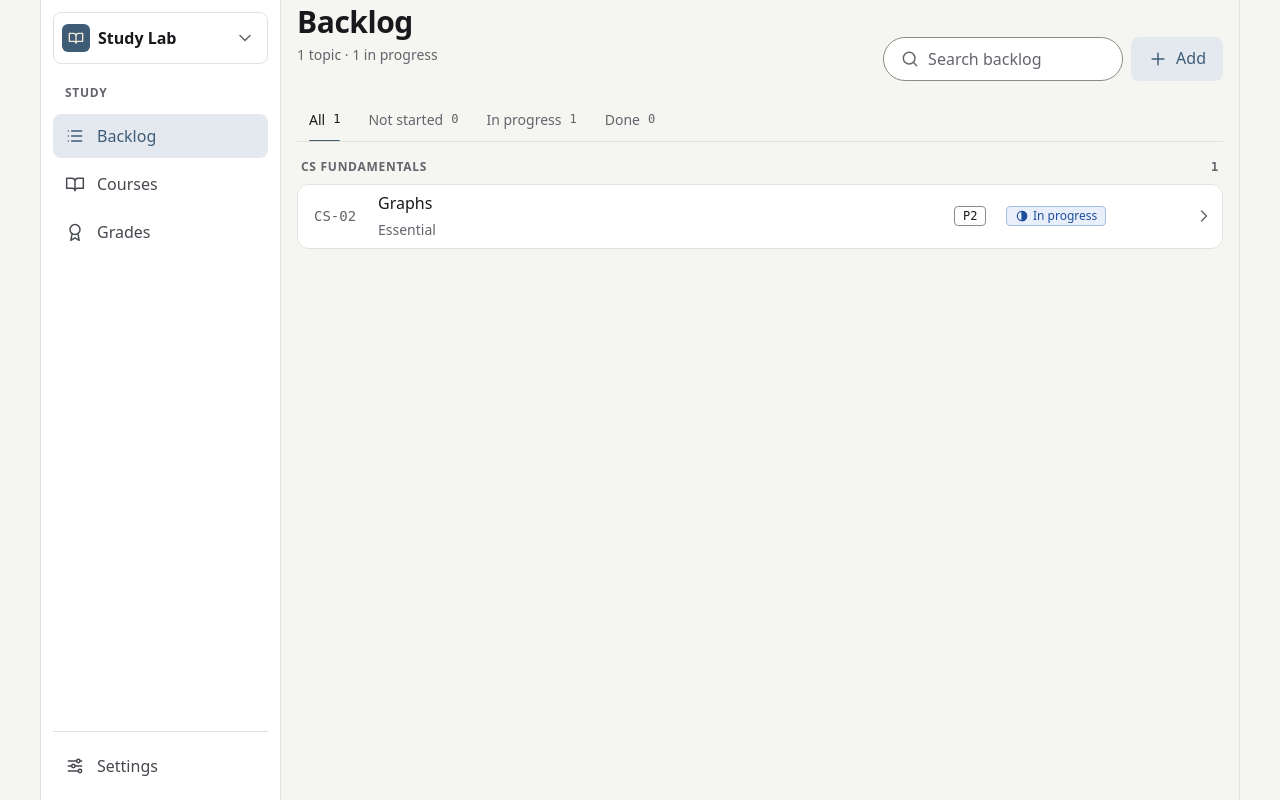
Scenario: Topic sheet › removes after a danger confirm, with an Idempotency-Key
This screenshot has width=1280, height=800.
Click the button "CS-02 Graphs Essential" at (335, 216), box [298,185,1222,248]
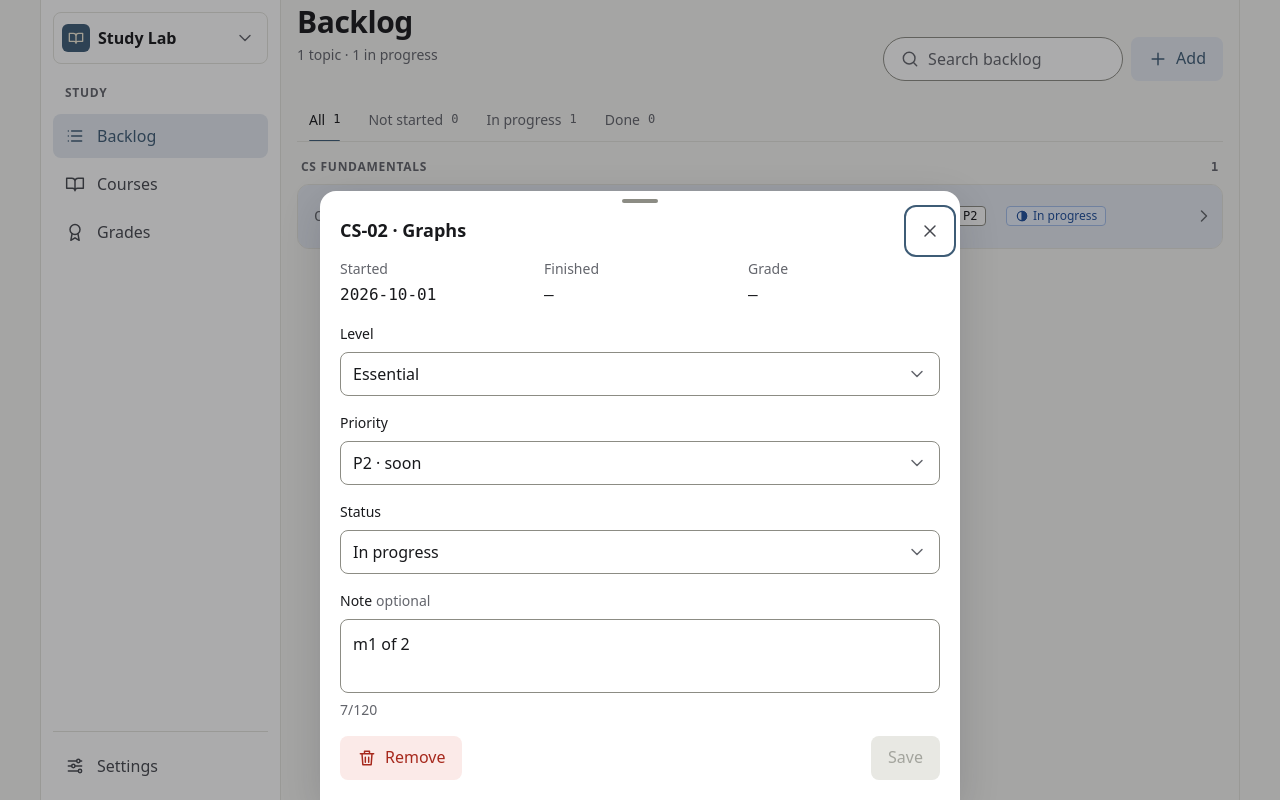
Click the button "Remove" at (401, 758), box [340,736,462,780]
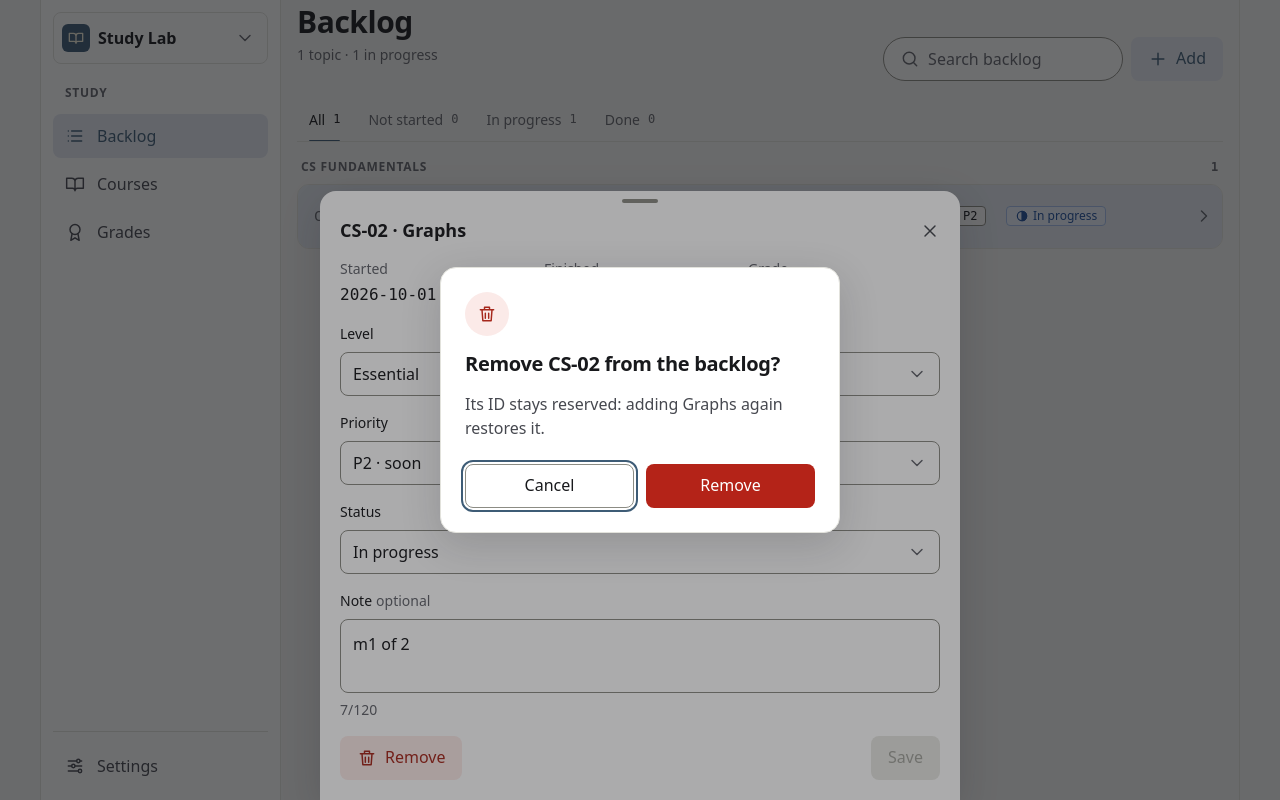
expect the dialog "Remove CS-02 from the backlog?" shows "adding Graphs again restores it": met, box [440,267,840,533]
Click the button "Remove" at (730, 486), box [646,464,815,508]
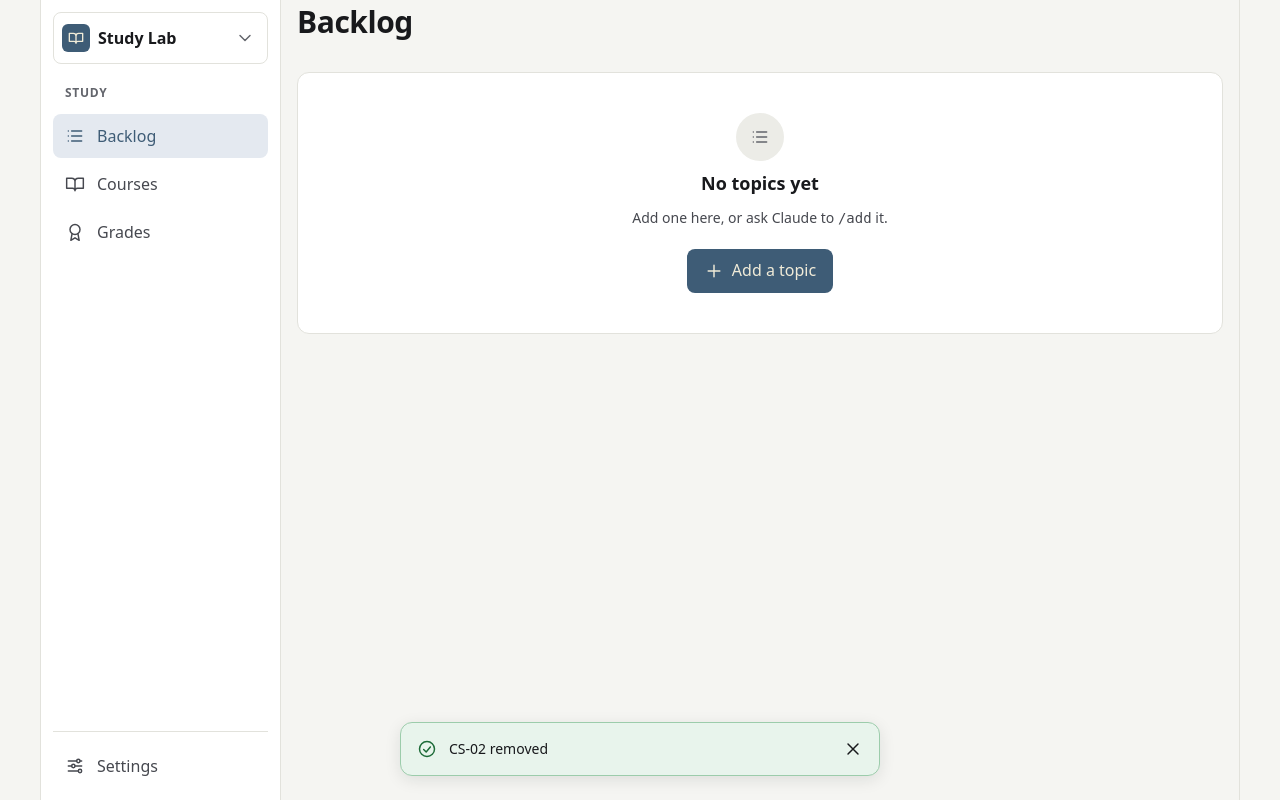
expect the text "CS-02 removed" is shown: met, box [449,738,548,758]
expect the text "No topics yet" is shown: met, box [701,173,819,195]
